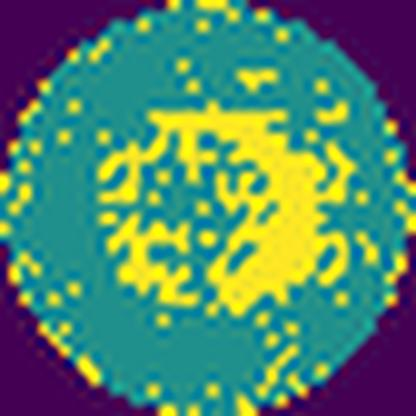Donut: (91, 90, 372, 322)
